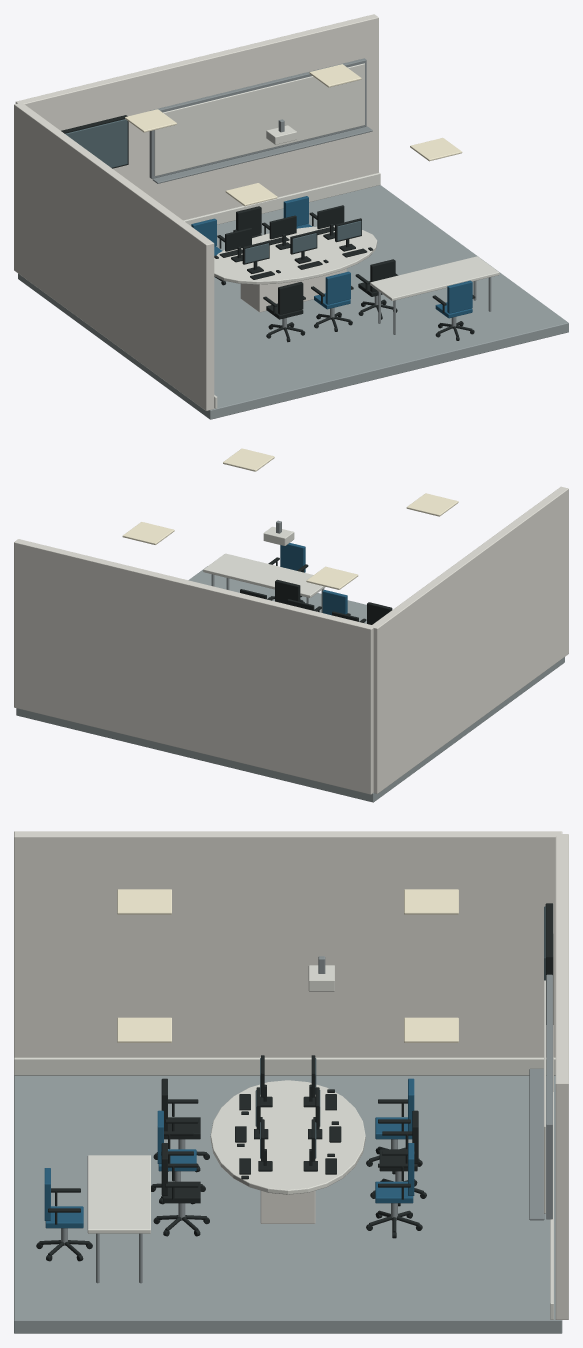
Rendered from stc-interior-954e7b3ae366.glb.
3 views of the same model, one above another, from view 1: azimuth 30°, elevation 25°; view 2: azimuth 150°, elevation 25°; view 3: azimuth 270°, elevation 25° (orthographic). The views are drawn at different scales.
Visible parts, largest first — view 1: STC.001; view 2: STC.001; view 3: STC.001.
Boxes of the visible parts, left/top/right/bottom form: STC.001: left=14, top=14, right=568, bottom=419; STC.001: left=14, top=448, right=568, bottom=802; STC.001: left=14, top=831, right=568, bottom=1333.
Size of the model in its own units: 7.08 by 3.3 by 6.58.
